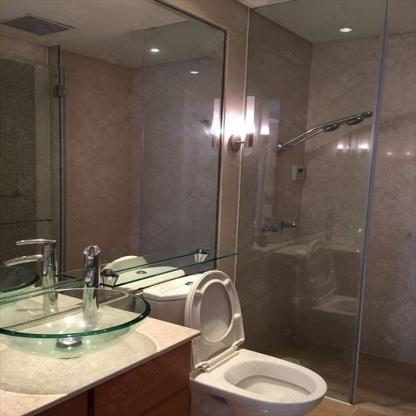Faucet: (8, 238, 65, 288), (74, 242, 111, 283)
Toilet: (141, 268, 328, 414)
Toilet Sink: (0, 287, 150, 357)
